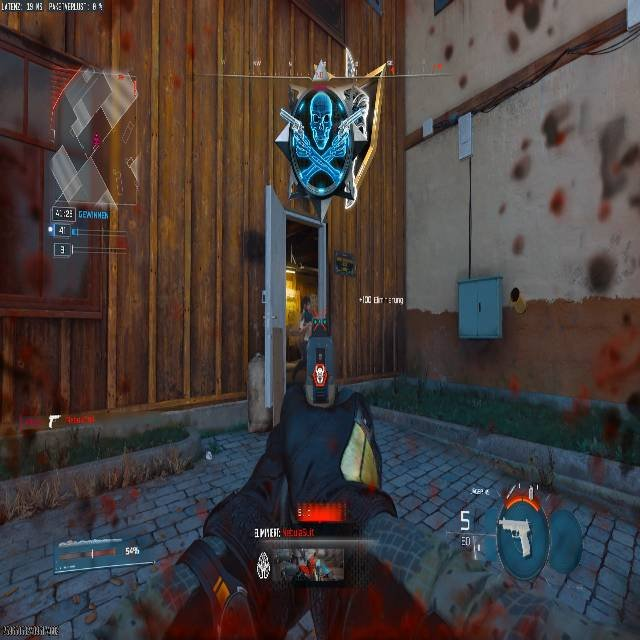head: (295, 89, 344, 146), (304, 310, 317, 325)
player: (296, 311, 329, 382)
